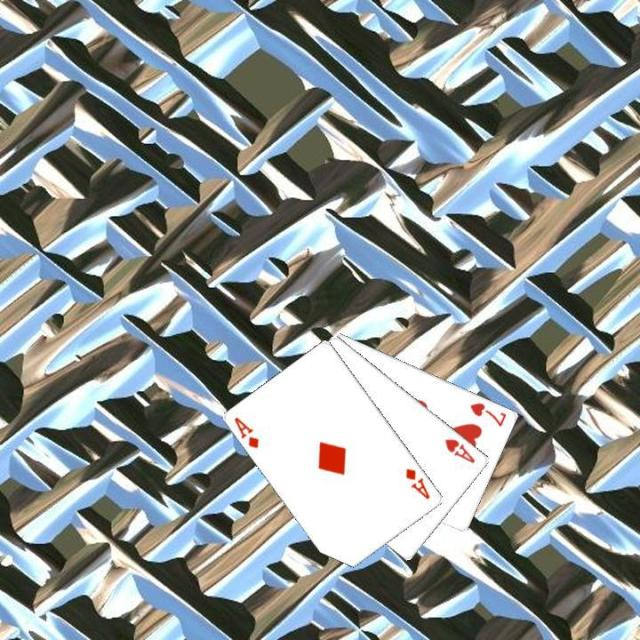7H: (466, 398, 508, 428)
AD: (230, 413, 262, 450), (402, 464, 432, 501)
AH: (441, 435, 477, 465)
